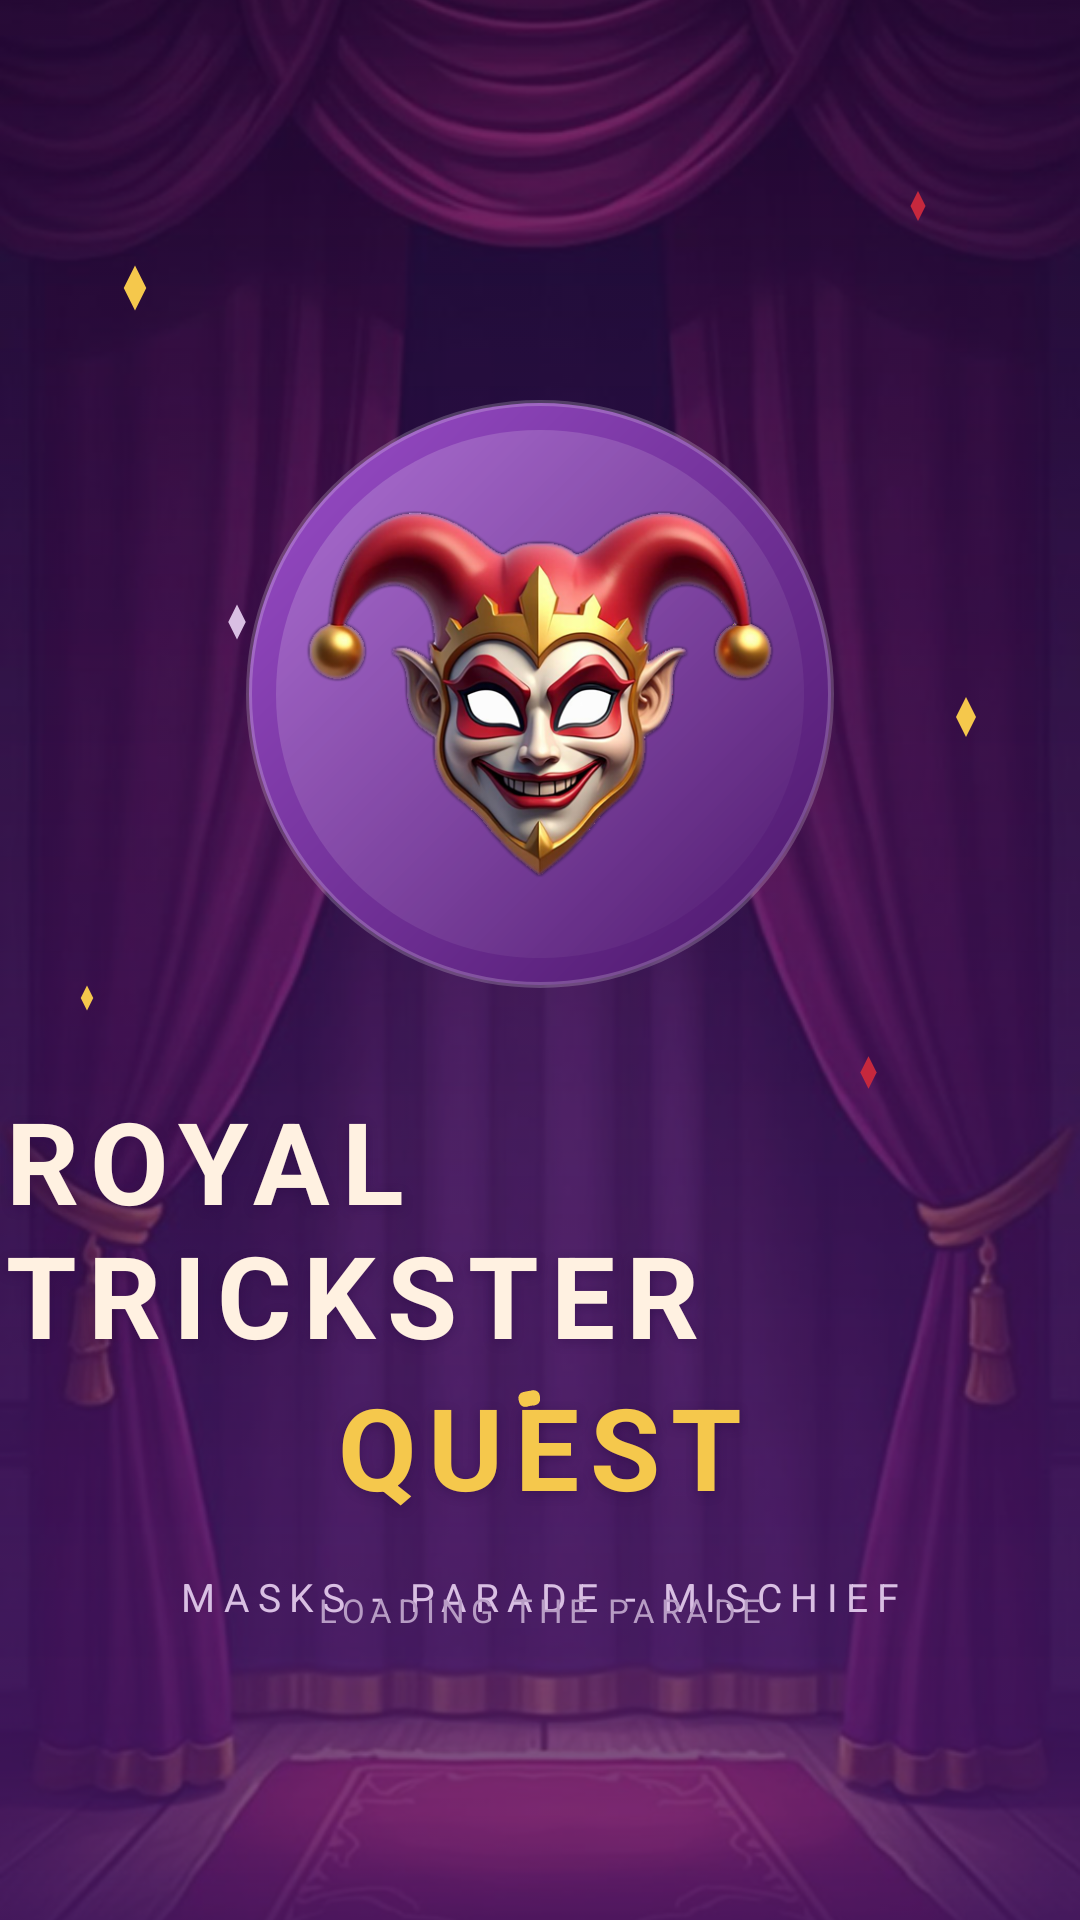

Icon click points for this 1080w x 1920h phone screenshot, format [x,y]:
confetti diamond: [918,206], [135,288], [237,622], [966,717], [87,998], [868,1073]
